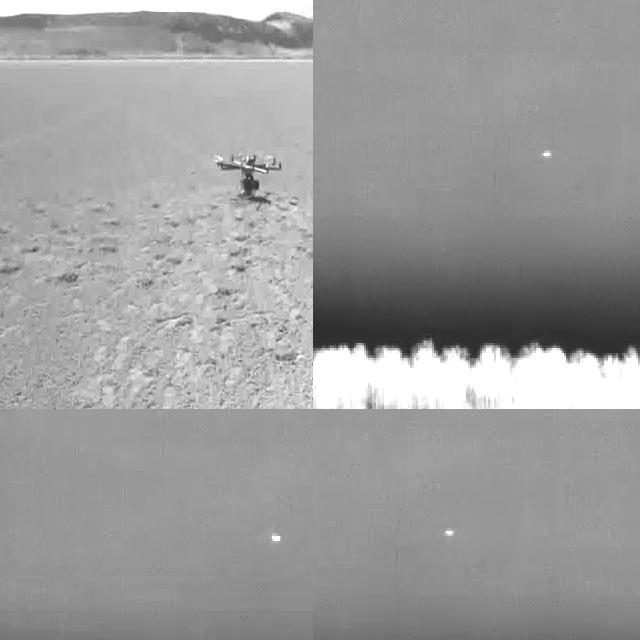1: (528, 142, 556, 172), (432, 522, 458, 550), (260, 528, 284, 554)
drone: (214, 144, 282, 193)
